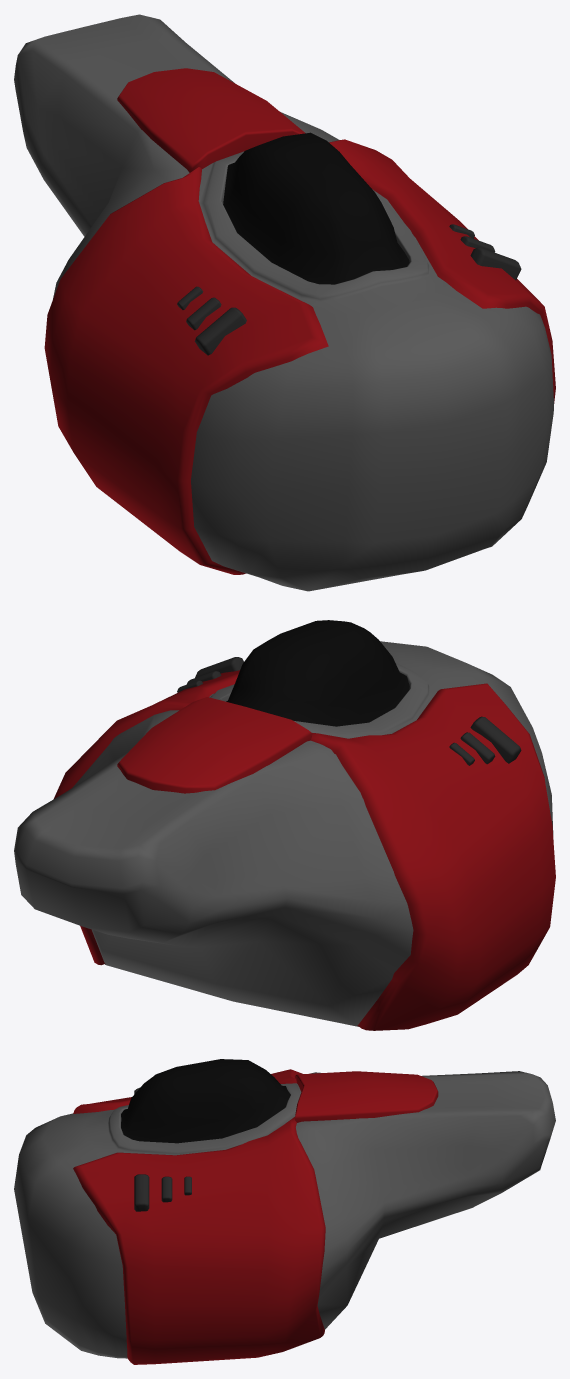
Rendered from Ship_enemy_08_Hull.fbx.
3 views of the same model, one above another, from view 1: azimuth 30°, elevation 25°; view 2: azimuth 150°, elevation 25°; view 3: azimuth 270°, elevation 25° (orthographic). The views are drawn at different scales.
Visible parts, largest first — view 1: Ship_enemy_08_Hull; view 2: Ship_enemy_08_Hull; view 3: Ship_enemy_08_Hull.
Boxes of the visible parts, x1=… form: Ship_enemy_08_Hull: x1=14, y1=14, x2=555, y2=591; Ship_enemy_08_Hull: x1=14, y1=620, x2=555, y2=1030; Ship_enemy_08_Hull: x1=14, y1=1059, x2=555, y2=1364.
Bounding box in the file's own units: 326 × 268 × 512.
